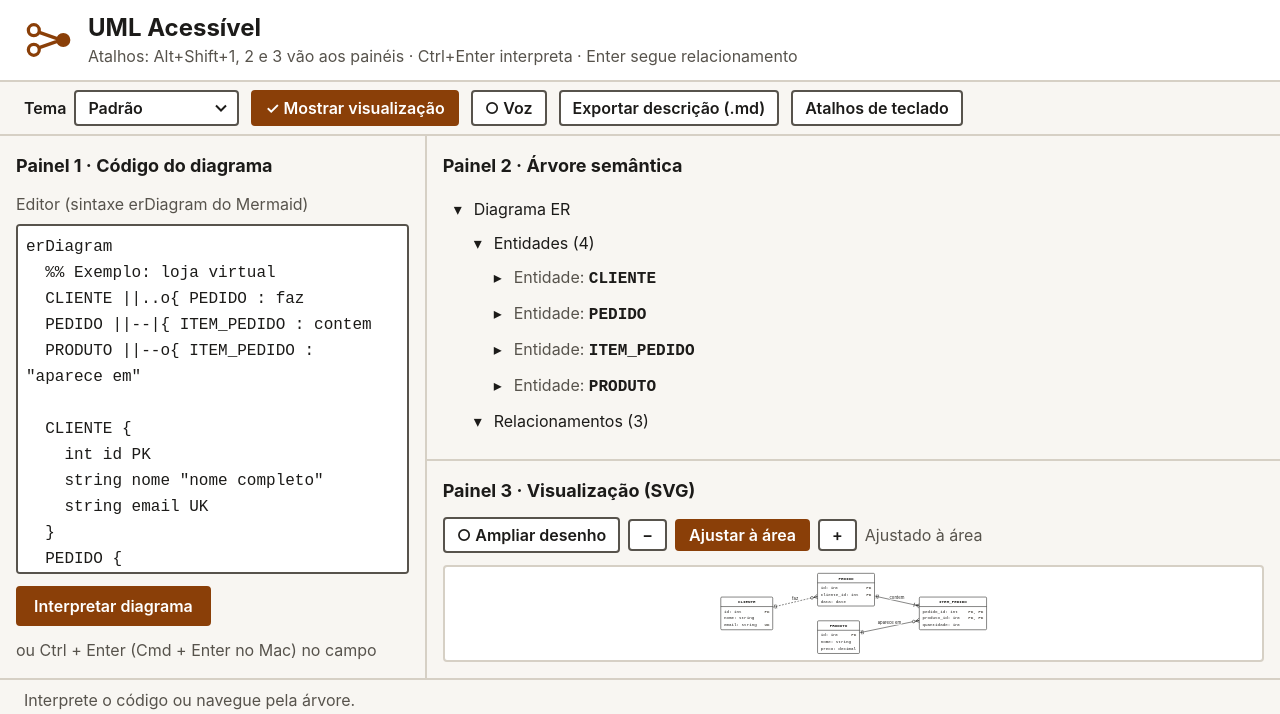
Test: App › cala a voz com Esc e ao desligar
Click the button "○ Voz" at (509, 108), box [471,90,546,126]
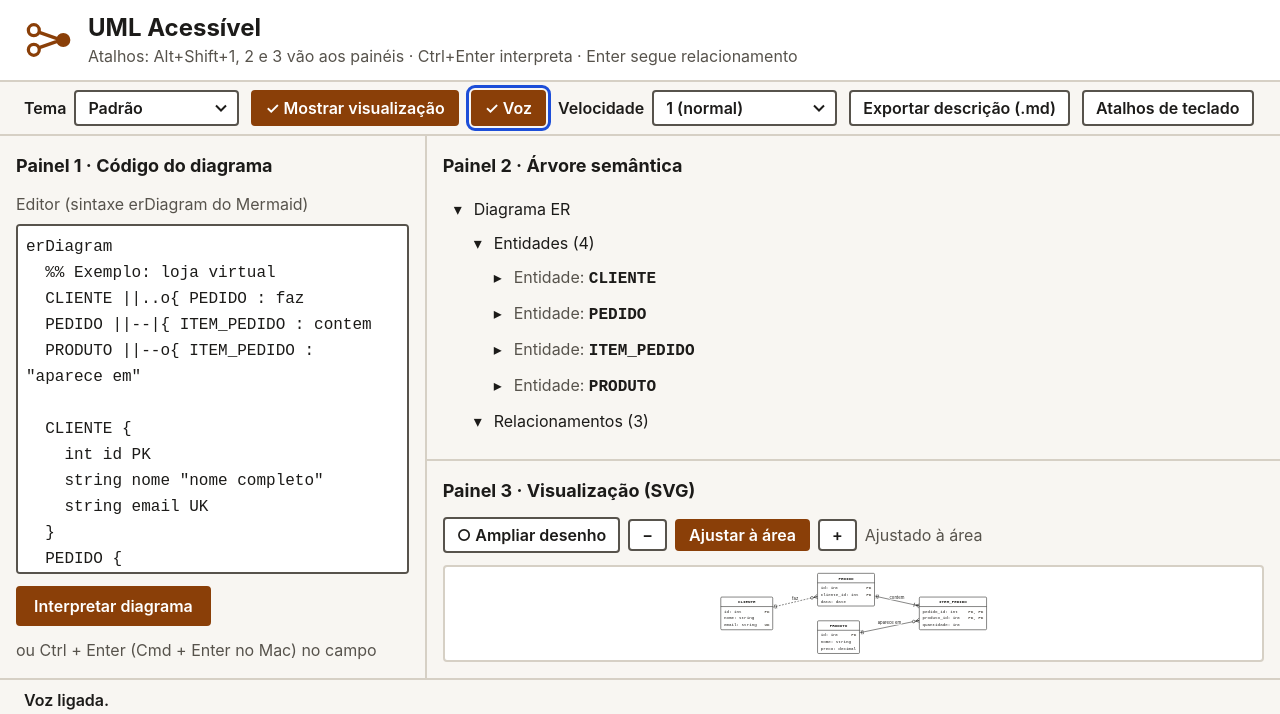
Press Escape
Click the button "✓ Voz" at (508, 108), box [471,90,546,126]
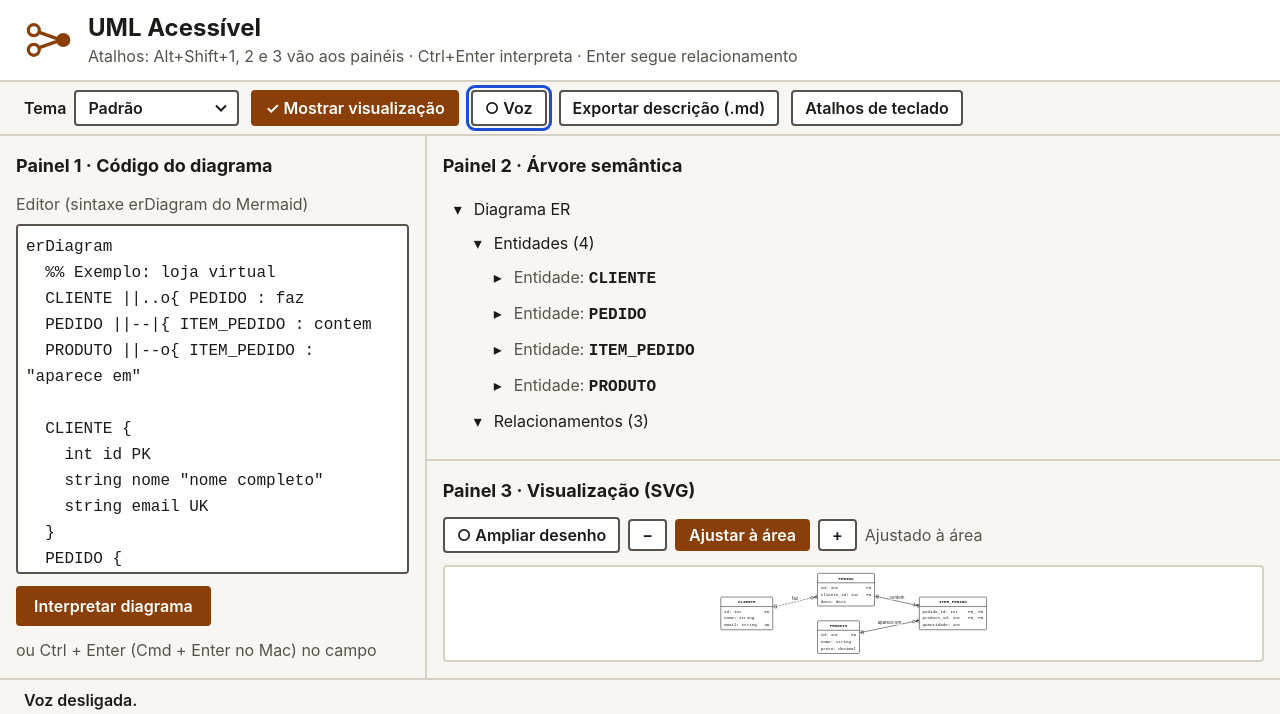
Now the label "Velocidade" is gone
